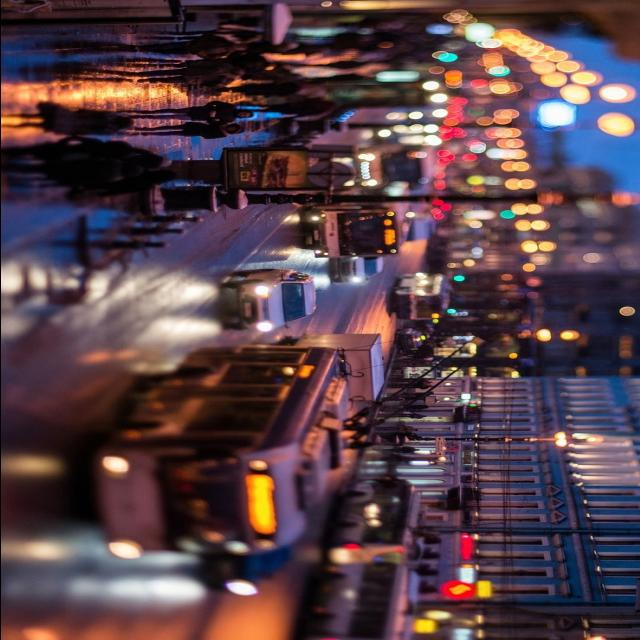bus: (82, 343, 360, 560), (298, 560, 410, 640), (294, 182, 410, 258), (329, 478, 422, 562), (387, 272, 450, 321)
